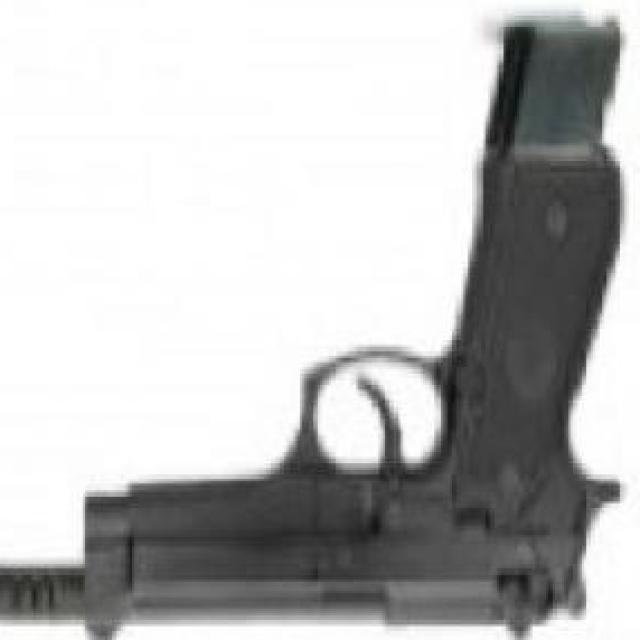pistol: (0, 143, 624, 640)
